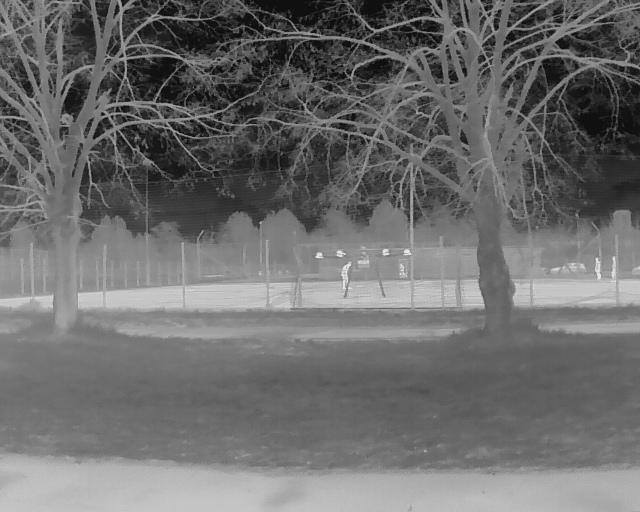drone: (307, 234, 415, 303)
